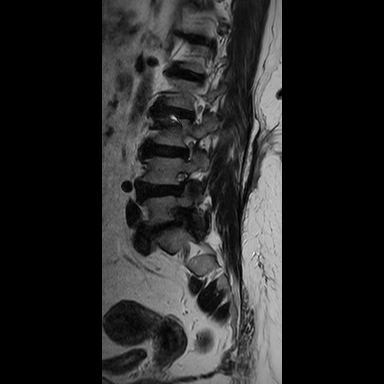LFS1: (176, 128, 202, 164)
LFS3: (169, 164, 194, 201)
